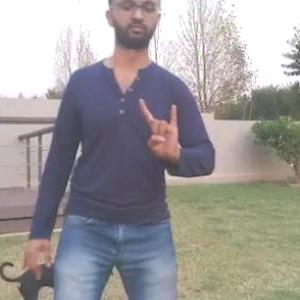takeoff-hand: (136, 95, 184, 170)
